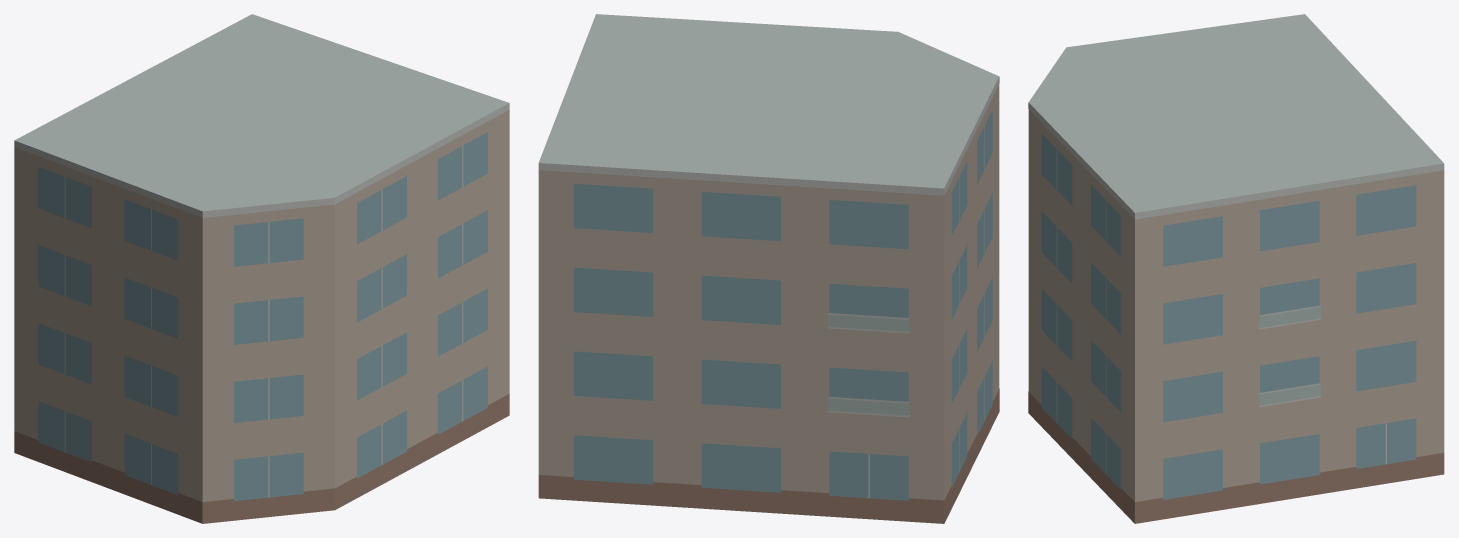
File: survey-upis-32866133.glb
The picture shows the model from 3 angles, left to right: view 1: azimuth 30°, elevation 25°; view 2: azimuth 150°, elevation 25°; view 3: azimuth 270°, elevation 25°; orthographic projection. The views are drawn at different scales.
Parts seen in each view (by area): view 1: survey-upis-32866133.tmp; view 2: survey-upis-32866133.tmp; view 3: survey-upis-32866133.tmp.
Boxes of the visible parts, x1,y1,x2,y2 form: survey-upis-32866133.tmp: (14, 14, 509, 523); survey-upis-32866133.tmp: (538, 14, 999, 523); survey-upis-32866133.tmp: (1028, 14, 1444, 523).
Bounding box in the file's own units: 15.66 × 11.4 × 13.83.
